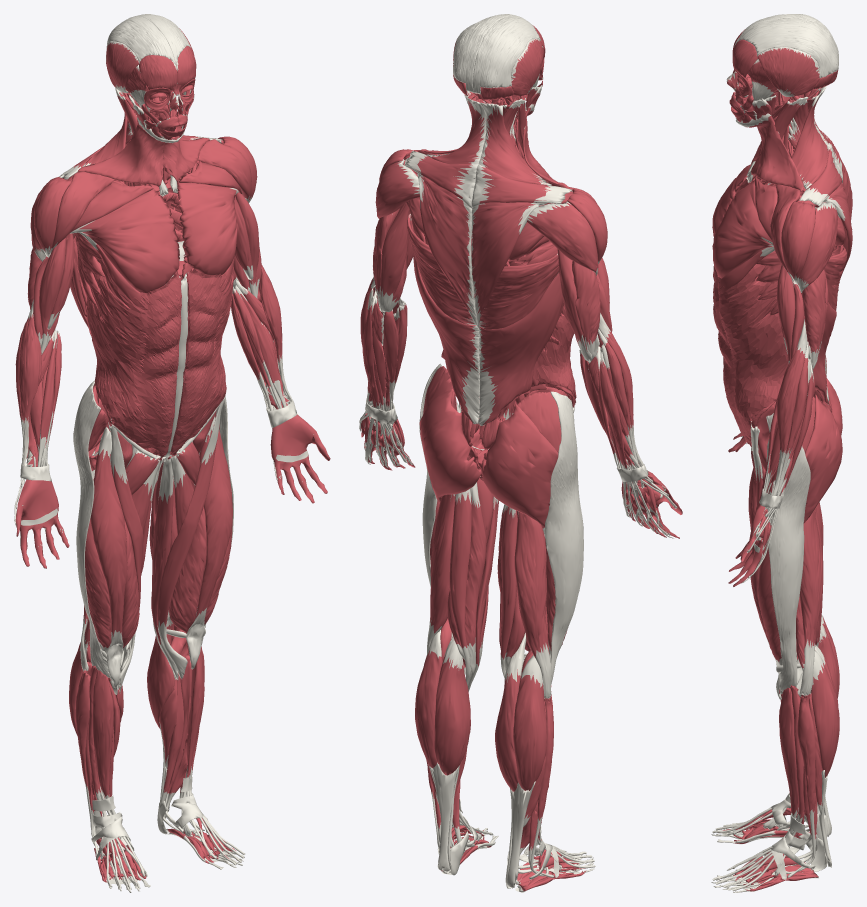
File: muscles.glb
The picture shows the model from 3 angles, left to right: view 1: azimuth 30°, elevation 25°; view 2: azimuth 150°, elevation 25°; view 3: azimuth 270°, elevation 25°; orthographic projection. The views are drawn at different scales.
Visible parts, largest first — view 1: External abdominal oblique muscle.r, Sternocostal head of pectoralis major muscle.r, External abdominal oblique muscle.l, Rectus femoris muscle.r, Sternocostal head of pectoralis major muscle.l, Rectus femoris muscle.l, Sartorius muscle.l, Iliotibial tract.r, Platysma.r, Palmar aponeurosis.l, Palmar aponeurosis.r, Vastus medialis muscle.l (+42 smaller); view 2: Latissimus dorsi muscle.r, Iliotibial tract.r, Latissimus dorsi muscle.l, Gluteus maximus muscle.r, Descending part of trapezius muscle.l, Long head of biceps femoris.r, Gluteus maximus muscle.l, Descending part of trapezius muscle.r, Medial head of gastrocnemius.l, Lateral head of gastrocnemius.r, Epicranial aponeurosis.r, Scapular spinal part of deltoid muscle.r (+35 smaller); view 3: External abdominal oblique muscle.l, Iliotibial tract.l, Sternocostal head of pectoralis major muscle.l, Epicranial aponeurosis.l, Long head of biceps femoris.l, Gluteus maximus muscle.l, Temporoparietalis muscle.l, Lateral head of gastrocnemius.l, Platysma.l, Brachioradialis muscle.l, Acromial part of deltoid muscle.l, Scapular spinal part of deltoid muscle.l (+40 smaller).
Part boxes in pixels (left/top/right/bottom): External abdominal oblique muscle.r: left=86, top=259, right=181, bottom=448; Sternocostal head of pectoralis major muscle.r: left=70, top=189, right=179, bottom=293; External abdominal oblique muscle.l: left=174, top=265, right=233, bottom=445; Rectus femoris muscle.r: left=90, top=427, right=127, bottom=687; Sternocostal head of pectoralis major muscle.l: left=177, top=182, right=238, bottom=275; Rectus femoris muscle.l: left=186, top=416, right=232, bottom=669; Sartorius muscle.l: left=157, top=398, right=224, bottom=678; Iliotibial tract.r: left=73, top=380, right=110, bottom=677; Platysma.r: left=78, top=117, right=175, bottom=186; Palmar aponeurosis.l: left=270, top=414, right=330, bottom=503; Palmar aponeurosis.r: left=15, top=479, right=69, bottom=568; Vastus medialis muscle.l: left=169, top=507, right=206, bottom=653; Latissimus dorsi muscle.r: left=478, top=253, right=563, bottom=425; Iliotibial tract.r: left=545, top=391, right=583, bottom=683; Latissimus dorsi muscle.l: left=407, top=214, right=479, bottom=424; Gluteus maximus muscle.r: left=481, top=403, right=558, bottom=527; Descending part of trapezius muscle.l: left=417, top=173, right=478, bottom=328; Long head of biceps femoris.r: left=514, top=511, right=551, bottom=698; Gluteus maximus muscle.l: left=419, top=388, right=481, bottom=502; Descending part of trapezius muscle.r: left=471, top=202, right=547, bottom=328; Medial head of gastrocnemius.l: left=434, top=636, right=470, bottom=775; Lateral head of gastrocnemius.r: left=513, top=655, right=546, bottom=790; Epicranial aponeurosis.r: left=472, top=15, right=540, bottom=94; Scapular spinal part of deltoid muscle.r: left=527, top=201, right=598, bottom=275; External abdominal oblique muscle.l: left=713, top=264, right=788, bottom=443; Iliotibial tract.l: left=766, top=413, right=810, bottom=691; Sternocostal head of pectoralis major muscle.l: left=712, top=180, right=773, bottom=278; Epicranial aponeurosis.l: left=736, top=18, right=838, bottom=78; Long head of biceps femoris.l: left=799, top=508, right=823, bottom=696; Gluteus maximus muscle.l: left=803, top=394, right=842, bottom=523; Temporoparietalis muscle.l: left=757, top=46, right=819, bottom=96; Lateral head of gastrocnemius.l: left=811, top=650, right=839, bottom=777; Platysma.l: left=736, top=113, right=803, bottom=191; Brachioradialis muscle.l: left=772, top=319, right=807, bottom=495; Acromial part of deltoid muscle.l: left=781, top=201, right=815, bottom=284; Scapular spinal part of deltoid muscle.l: left=798, top=202, right=837, bottom=292.
Size of the model in its own units: 0.6706 by 1.7 by 0.2586.
